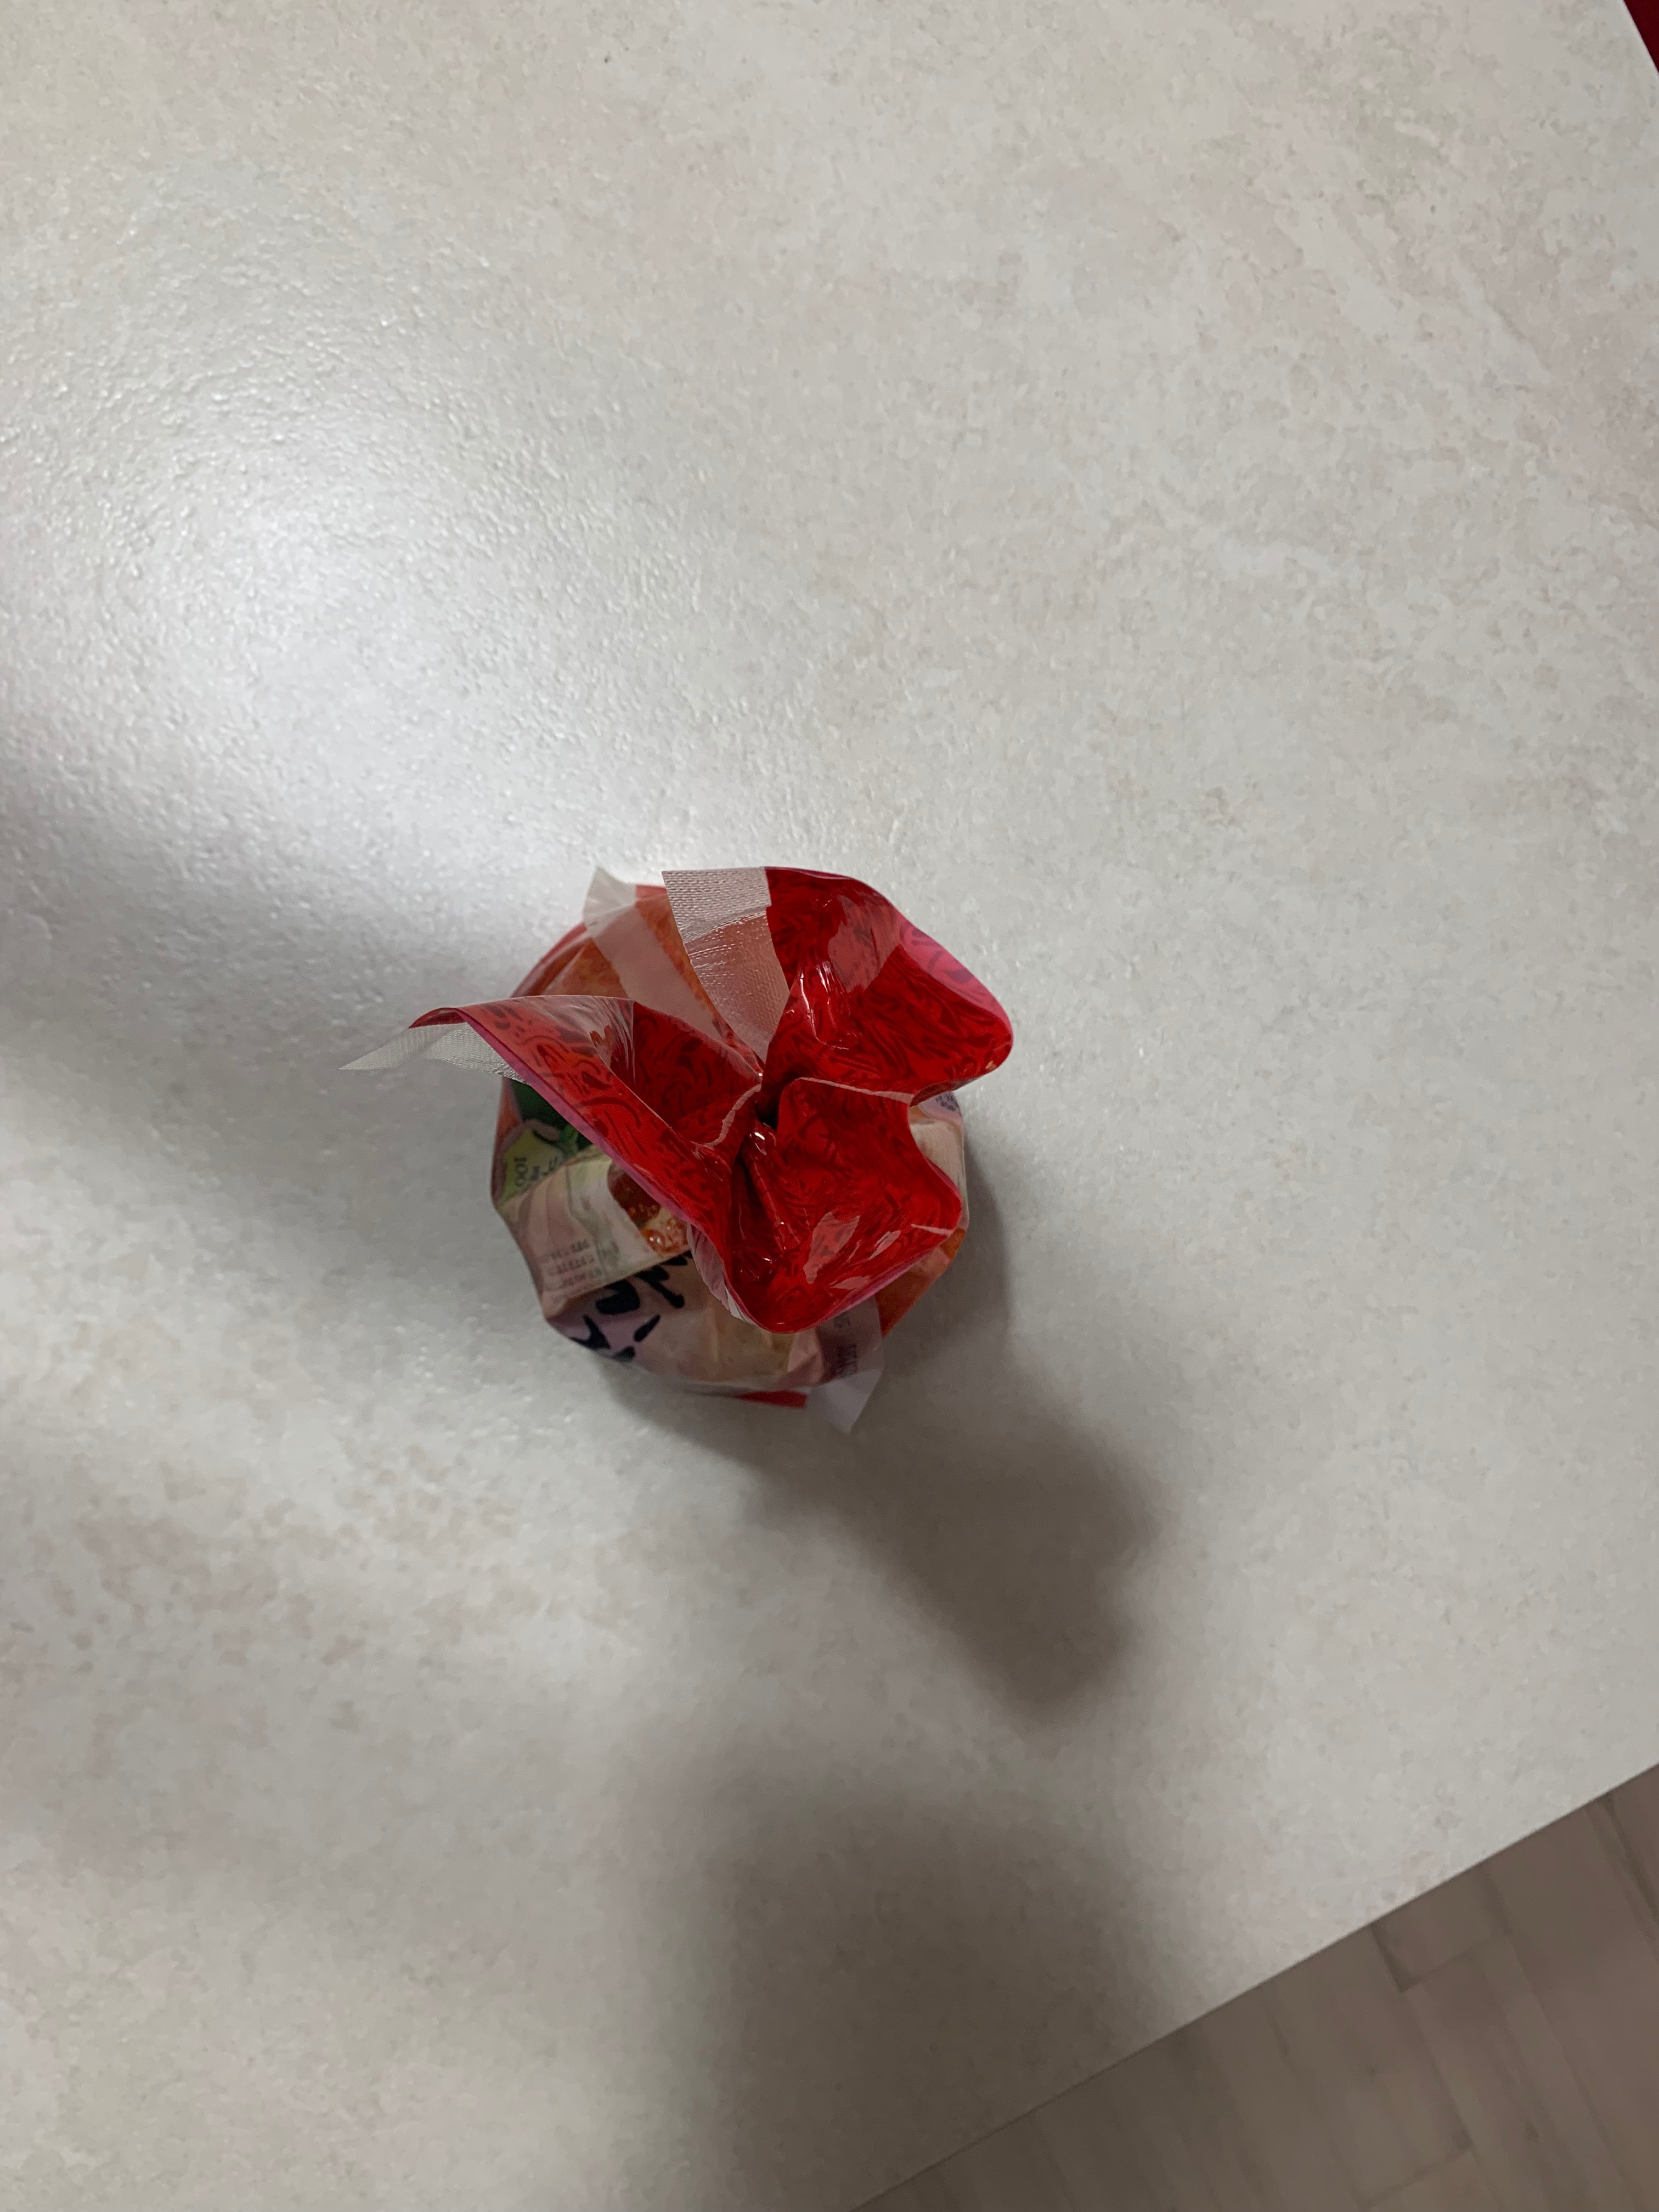kimchi: (415, 864, 1019, 1420)
